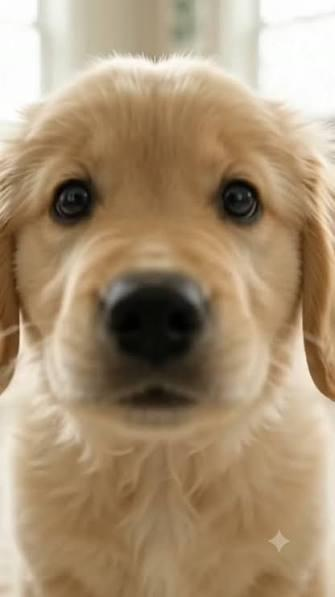puppy-dog: (0, 52, 335, 597)
